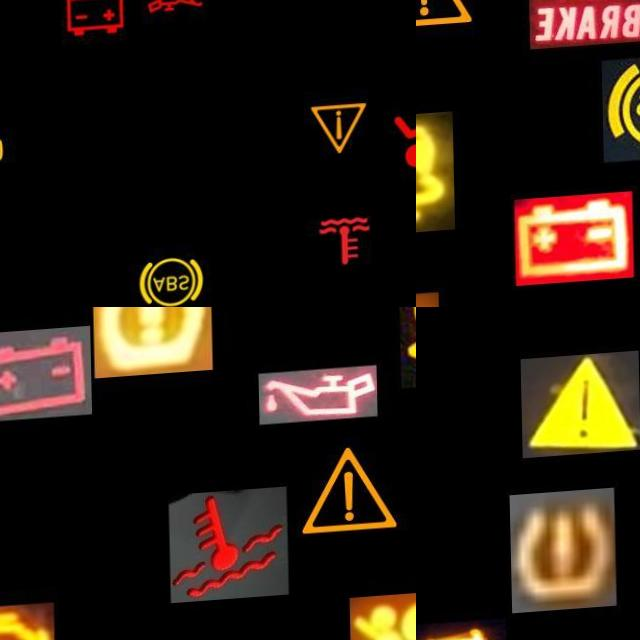Central Warning lamp: (287, 434, 407, 558), (520, 355, 640, 461), (416, 0, 483, 51)
Engine cooling system: (167, 492, 287, 607)
High Engine Coolant Temperature: (307, 212, 377, 285)
